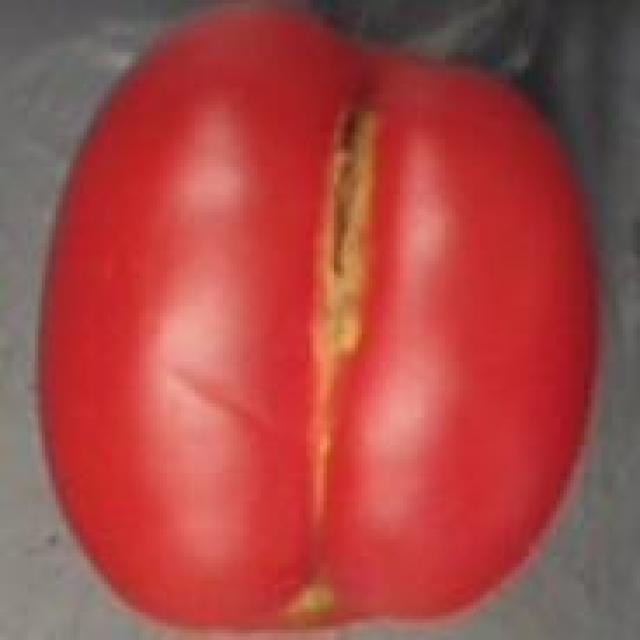overripe tomato: (28, 3, 622, 640)
